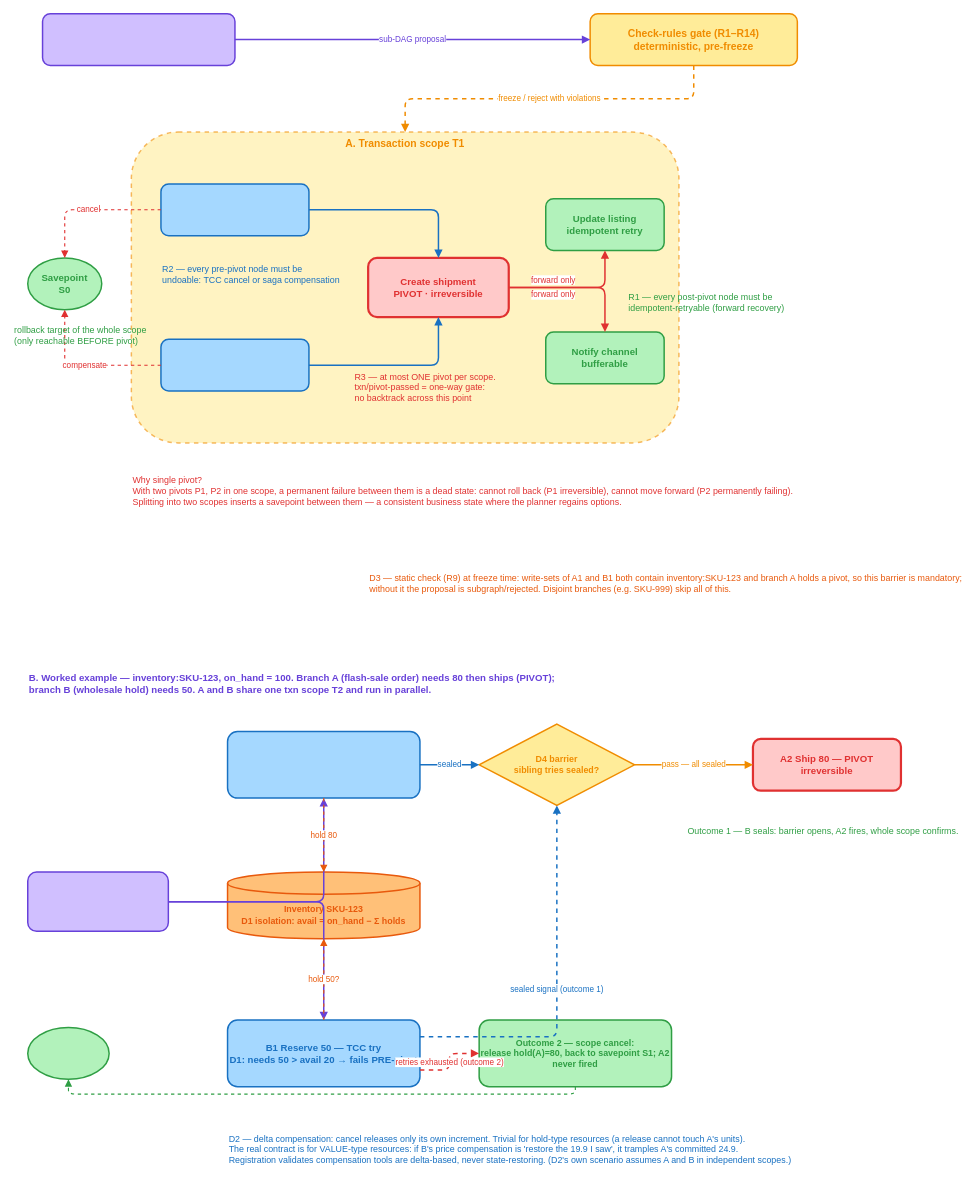
The diagram is 977 pixels wide and 1195 high, and some of its shapes have lost their labels. The centre of each missing label's shape, as x and y in pixels:
"A1 Reserve 80 — TCC try D1: hold(A)=80 → avail 100−80=20" belongs at point (323, 764).
"Planner declares txn scope + node attrs" belongs at point (138, 39).
"Planner P declares scope T2 (A ∥ B)" belongs at point (98, 901).
"Reserve stock TCC try · reversible" belongs at point (234, 209).
"Savepoint S1" belongs at point (68, 1053).
"Set promo price saga · compensable" belongs at point (234, 364).
